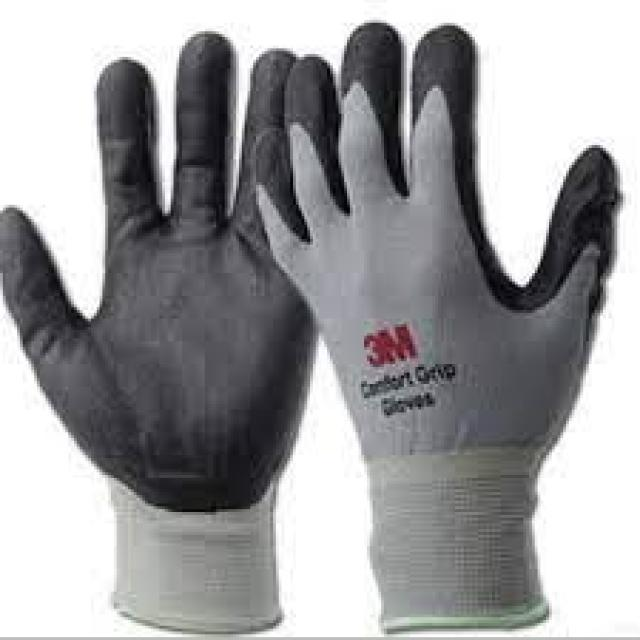Gloves: (241, 15, 621, 617), (0, 31, 320, 634)
